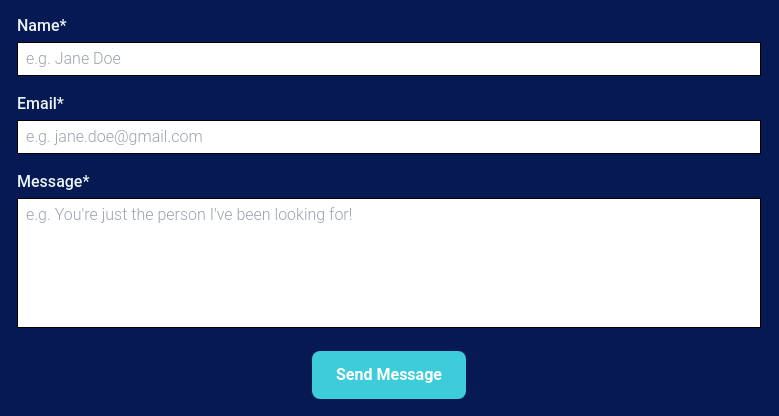
Test: displays required error messages when fields are empty
The image size is (779, 416).
Click the button "Send Message" at (389, 375), box [312,351,466,399]
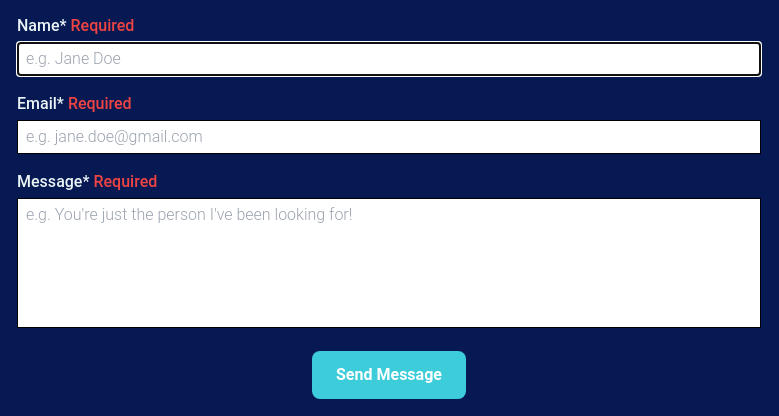
Expected: the text "Required" is shown 3 times, [71,16,134,35]; [68,94,132,113]; [94,172,157,191]
